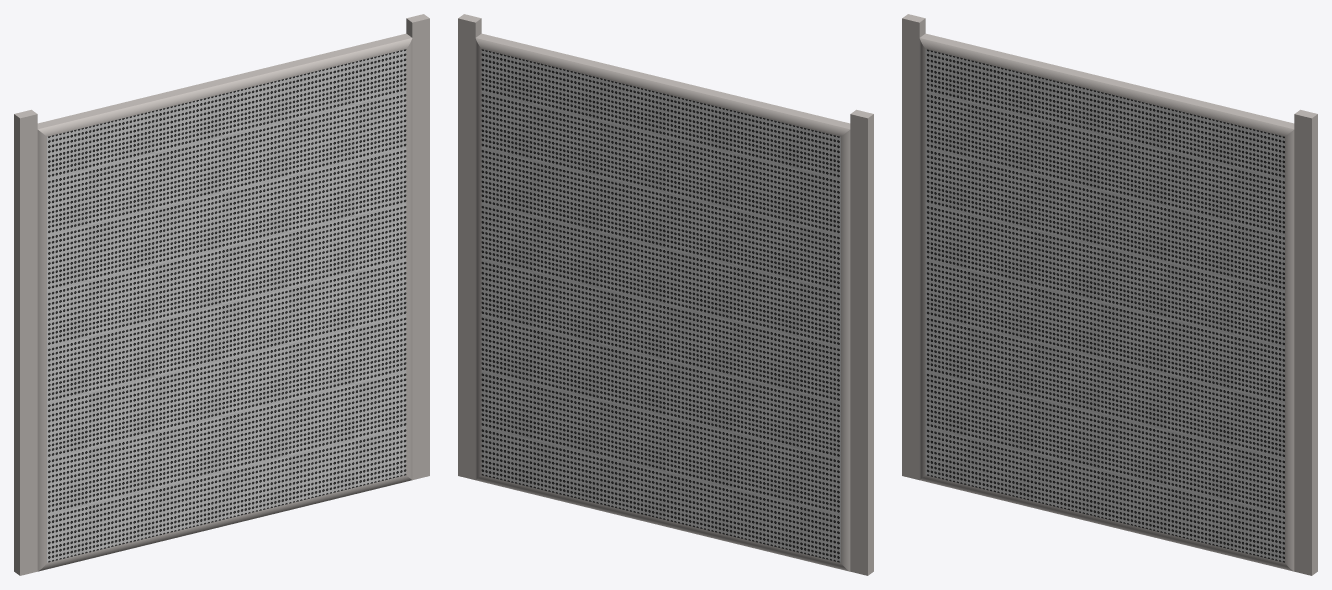
File: Shelf Stand.fbx
3 renders of one model, left to right at view 1: azimuth 30°, elevation 25°; view 2: azimuth 150°, elevation 25°; view 3: azimuth 330°, elevation 25°, orthographic.
Visible parts, largest first — view 1: Group1; view 2: Group1; view 3: Group1.
Boxes of the visible parts, <box> form: Group1: <box>14,14,429,575</box>; Group1: <box>458,14,873,575</box>; Group1: <box>902,14,1317,575</box>.
Bounding box in the file's own units: 73.75 × 78.7 × 2.88.
